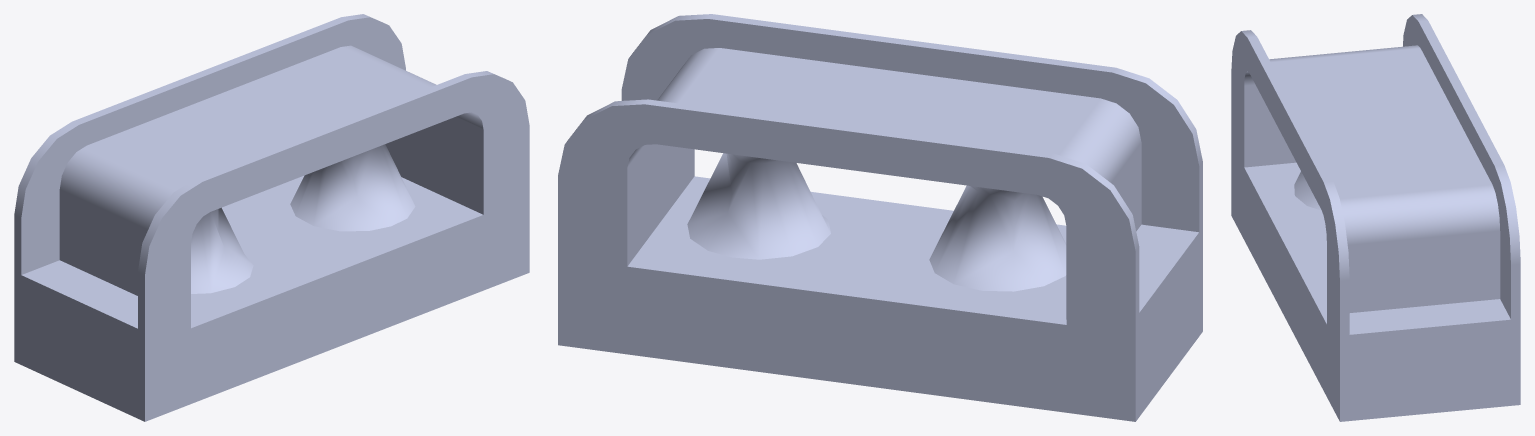
3 views of the same model, side by side, from view 1: azimuth 30°, elevation 25°; view 2: azimuth 150°, elevation 25°; view 3: azimuth 270°, elevation 25° (orthographic). The views are drawn at different scales.
Parts seen in each view (by area): view 1: NAUO56, NAUO59, NAUO58; view 2: NAUO56, NAUO57, NAUO58; view 3: NAUO56, NAUO60, NAUO59.
Boxes of the visible parts, left/top/right/bottom form: NAUO56: left=14, top=14, right=529, bottom=350; NAUO59: left=148, top=203, right=525, bottom=420; NAUO58: left=14, top=291, right=148, bottom=421; NAUO56: left=558, top=14, right=1202, bottom=339; NAUO57: left=564, top=263, right=1129, bottom=421; NAUO58: left=1130, top=249, right=1202, bottom=421; NAUO56: left=1231, top=14, right=1520, bottom=353; NAUO60: left=1339, top=337, right=1520, bottom=421; NAUO59: left=1232, top=150, right=1338, bottom=419.
Bounding box in the file's own units: 1.06 × 0.46 × 0.5785.
